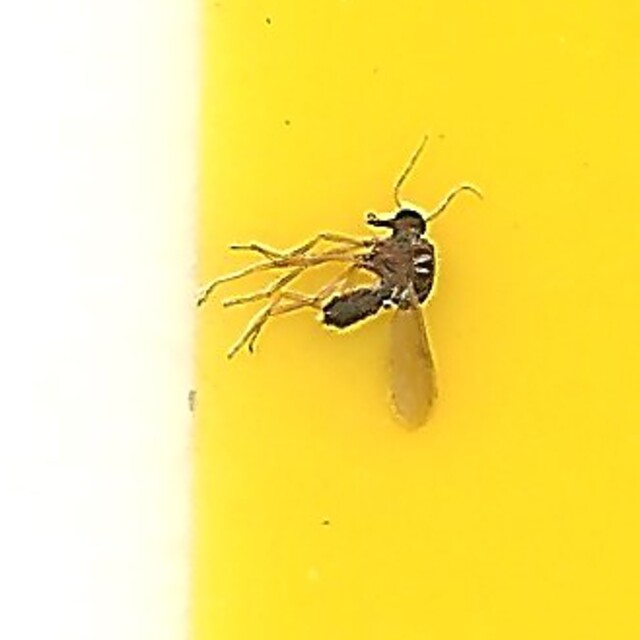Brachycera: (195, 199, 445, 441)
